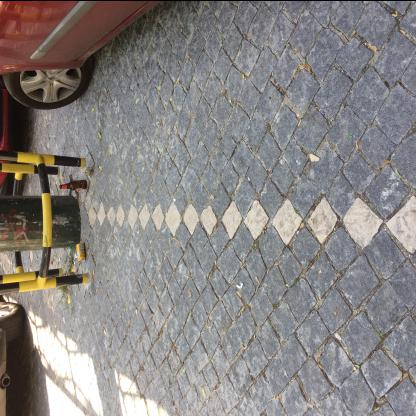cam: (59, 178, 87, 190)
metal: (76, 242, 86, 261)
